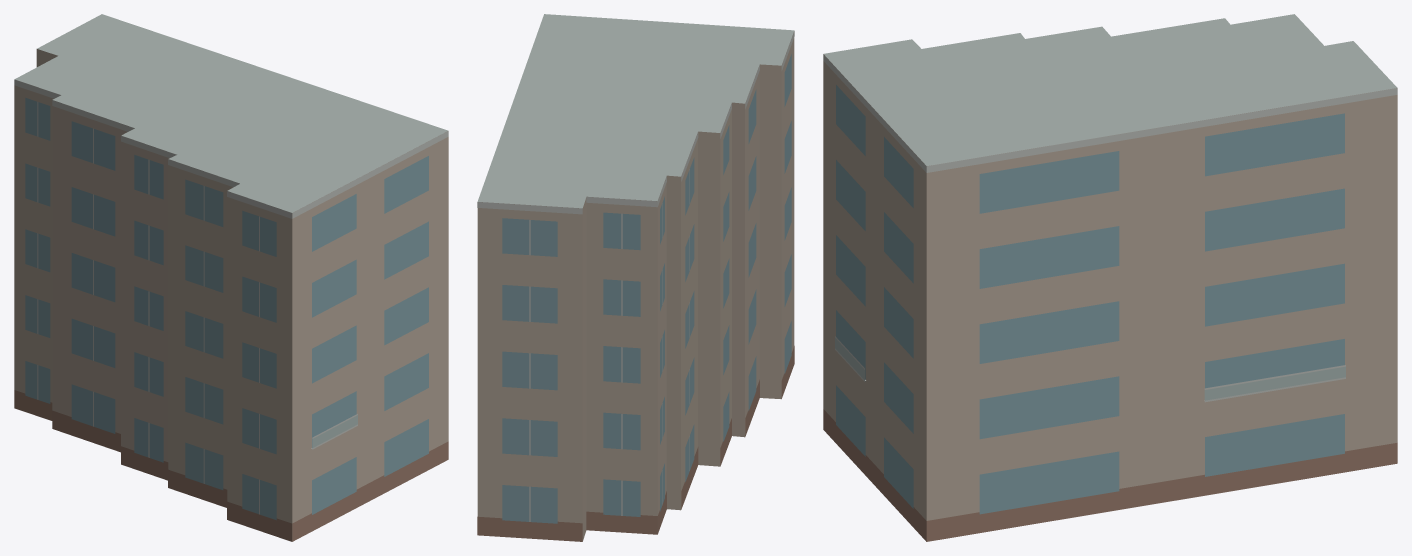
Rendered from survey-upis-33024799.glb.
The picture shows the model from 3 angles, left to right: view 1: azimuth 30°, elevation 25°; view 2: azimuth 150°, elevation 25°; view 3: azimuth 270°, elevation 25°; orthographic projection. The views are drawn at different scales.
Parts seen in each view (by area): view 1: survey-upis-33024799.tmp; view 2: survey-upis-33024799.tmp; view 3: survey-upis-33024799.tmp.
Boxes of the visible parts, x1,y1,x2,y2 form: survey-upis-33024799.tmp: (14, 14, 448, 541); survey-upis-33024799.tmp: (477, 14, 794, 541); survey-upis-33024799.tmp: (823, 14, 1397, 541).
Bounding box in the file's own units: 11.65 × 13.4 × 18.58.
